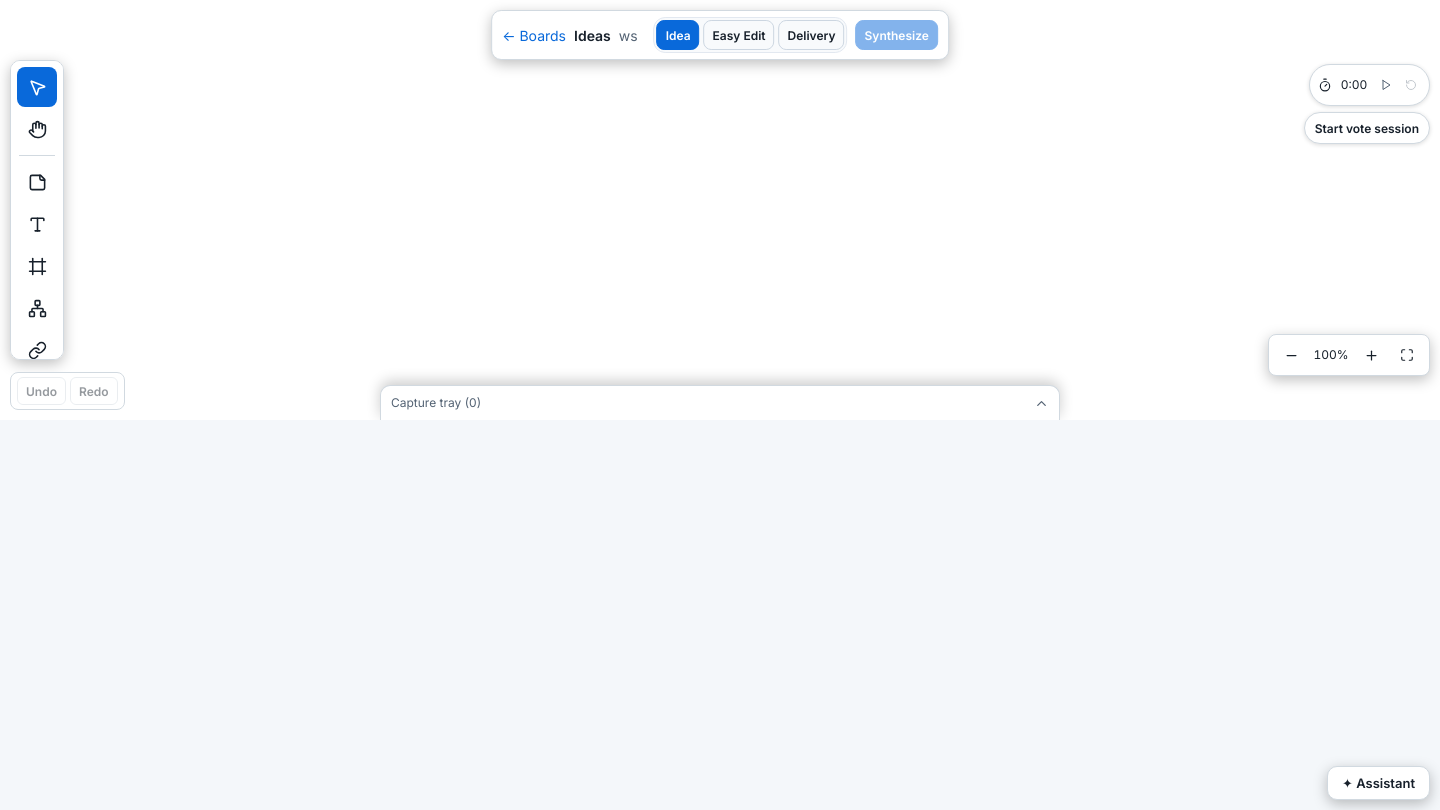
Test: board assistant panel (wp-165) › flag on → collapsed toggle → open → thread renders with attribution
Click the button with aria-label "board assistant" at (1378, 783), box [1327, 766, 1430, 800]
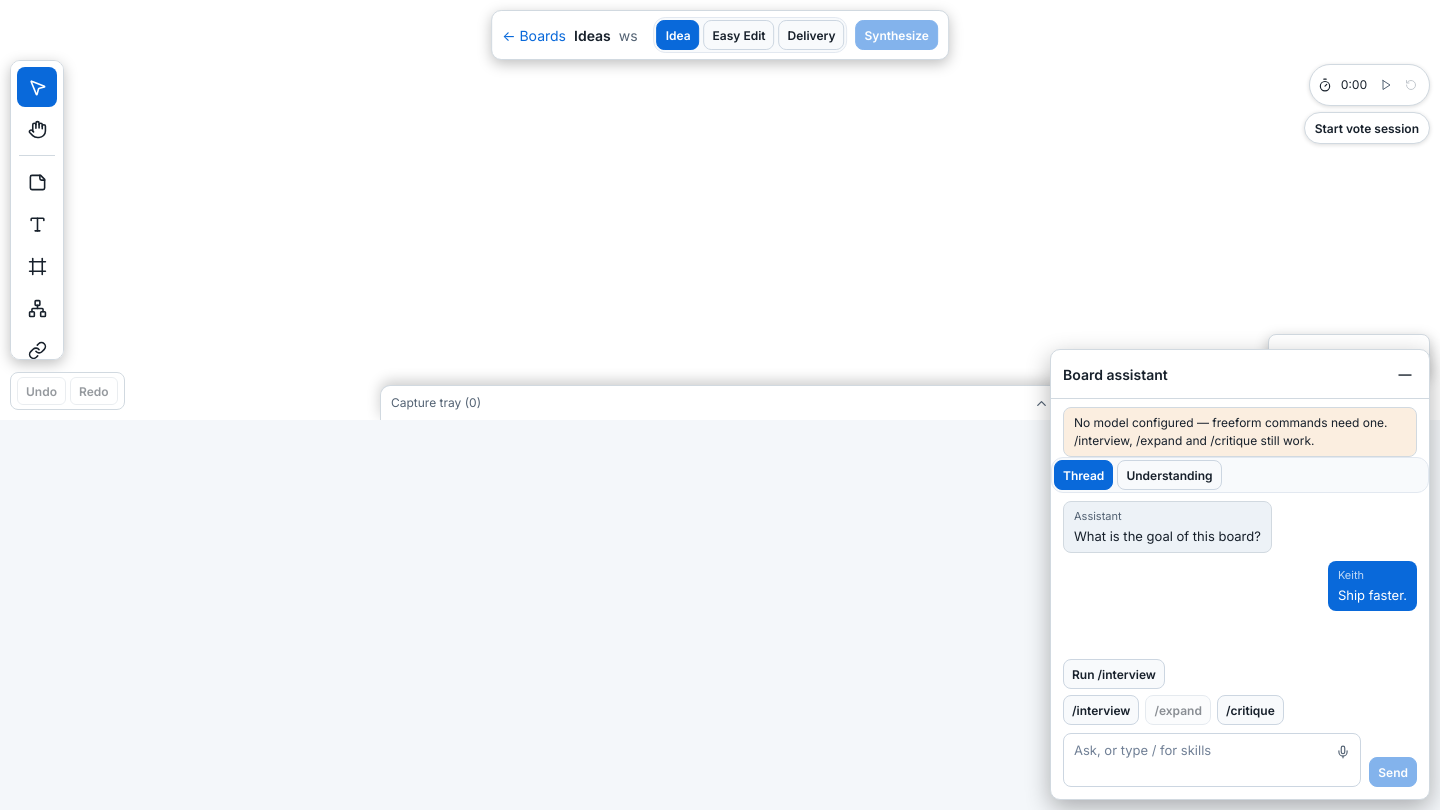
Result: the tab "Thread" is shown at [1054, 460, 1113, 490]
Result: the text "What is the goal of this board?" is shown at [1074, 527, 1261, 546]
Result: the text "Ship faster." is shown at [1338, 586, 1407, 605]
